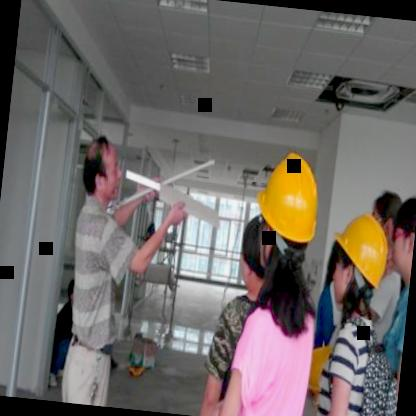head: (81, 134, 125, 206), (389, 190, 416, 277), (368, 182, 402, 245)
helmet: (240, 142, 338, 310), (324, 200, 394, 318)
